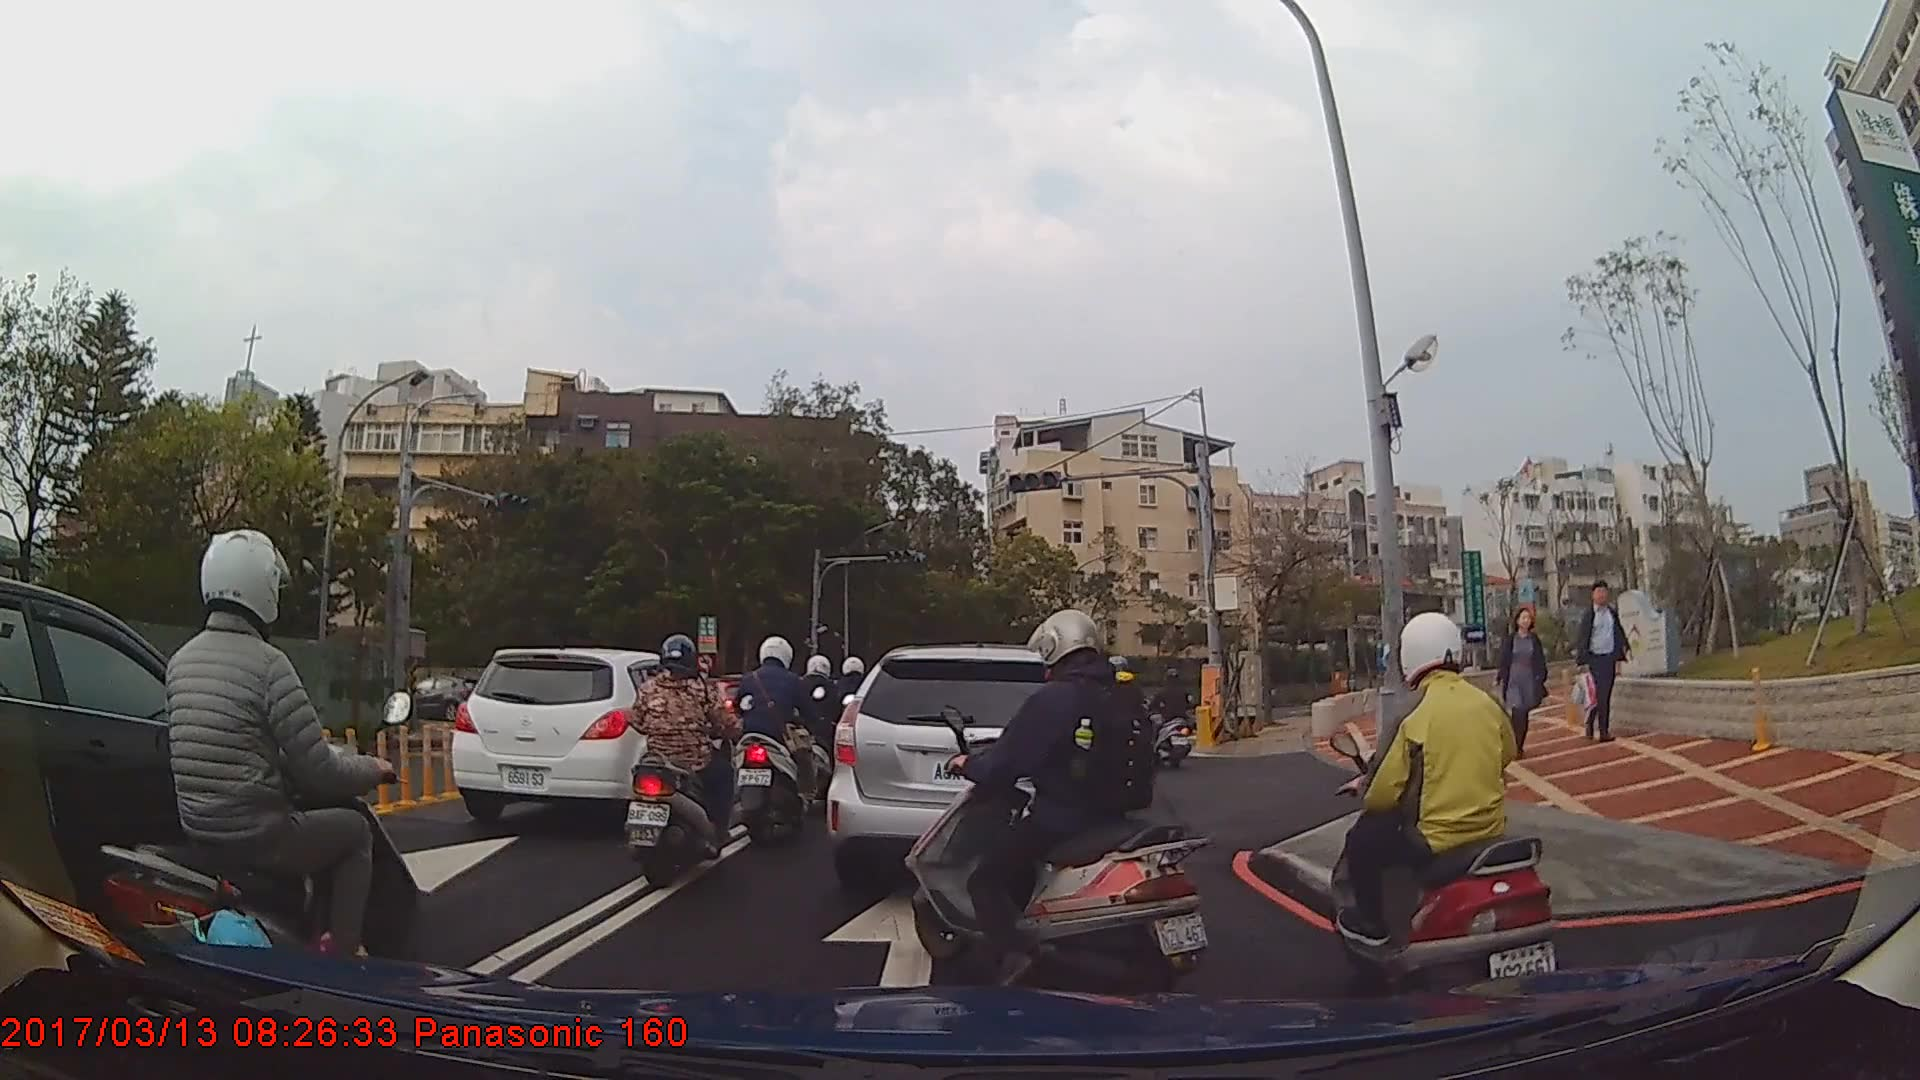pedestrian: (1487, 612, 1554, 770), (1576, 582, 1638, 744)
rider: (89, 527, 425, 1040), (906, 610, 1213, 1001), (1323, 610, 1554, 1025), (624, 635, 744, 891), (728, 634, 829, 844), (798, 656, 853, 800), (1144, 672, 1198, 763)
vehicle: (0, 576, 357, 956), (826, 641, 1118, 899), (447, 646, 733, 825), (396, 673, 485, 721)
